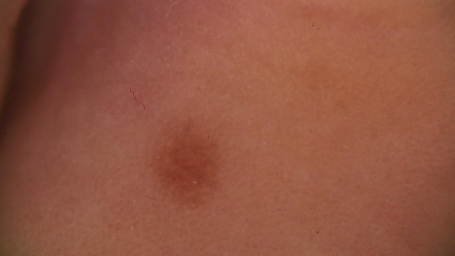melanoma: (160, 135, 217, 207)
